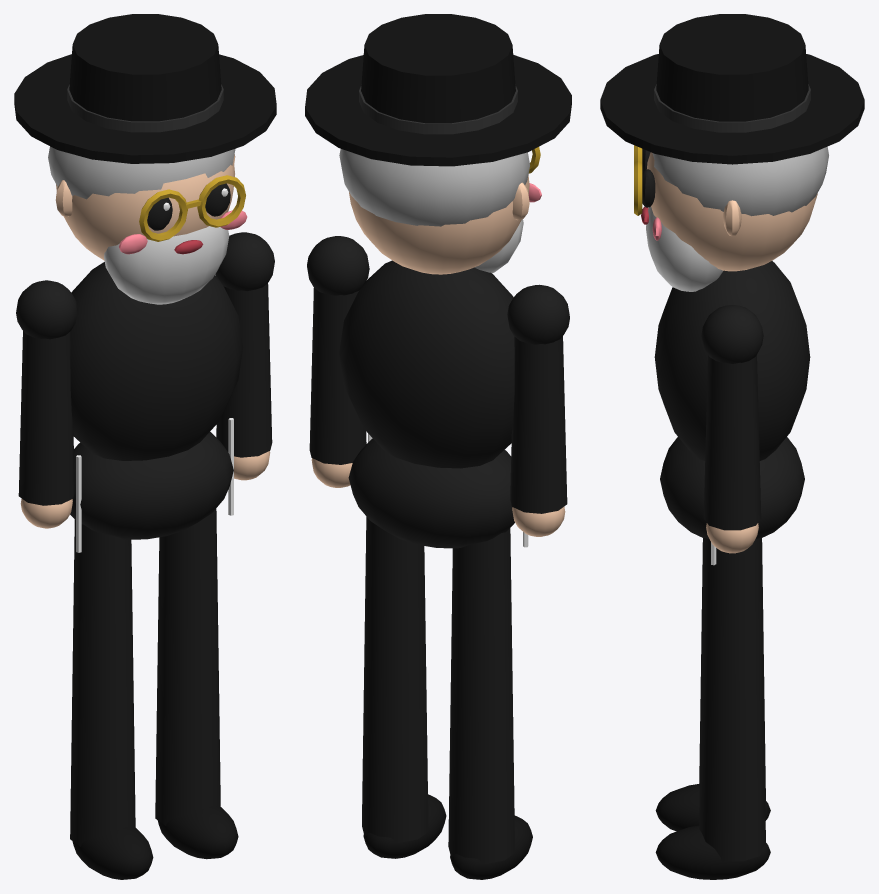
The model's file is foot_rabbi.glb.
The picture shows the model from 3 angles, left to right: view 1: azimuth 30°, elevation 25°; view 2: azimuth 150°, elevation 25°; view 3: azimuth 270°, elevation 25°; orthographic projection.
Visible parts, largest first — view 1: Body.001, Leg_R.001, Leg_L.001, Arm_R.001, Arm_L.001; view 2: Body.001, Leg_R.001, Leg_L.001, Arm_R.001, Arm_L.001; view 3: Body.001, Leg_L.001, Arm_L.001, Leg_R.001.
Part boxes in pixels (x1,y1,x2,y2): Body.001: [14, 14, 276, 552]; Leg_R.001: [70, 519, 153, 879]; Leg_L.001: [155, 508, 238, 859]; Arm_R.001: [16, 280, 77, 528]; Arm_L.001: [215, 232, 274, 480]; Body.001: [305, 14, 571, 548]; Leg_R.001: [448, 528, 532, 879]; Leg_L.001: [362, 516, 446, 858]; Arm_R.001: [507, 284, 569, 536]; Arm_L.001: [307, 236, 369, 487]; Body.001: [600, 14, 864, 565]; Leg_L.001: [655, 538, 770, 879]; Arm_L.001: [701, 305, 763, 553]; Leg_R.001: [655, 538, 770, 831].
Size of the model in its own units: 0.6052 by 1.86 by 0.551.
